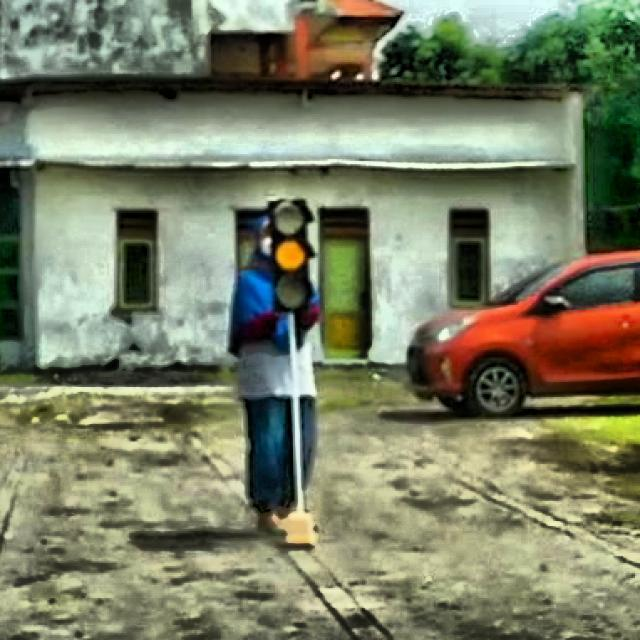yellow: (272, 200, 314, 314)
